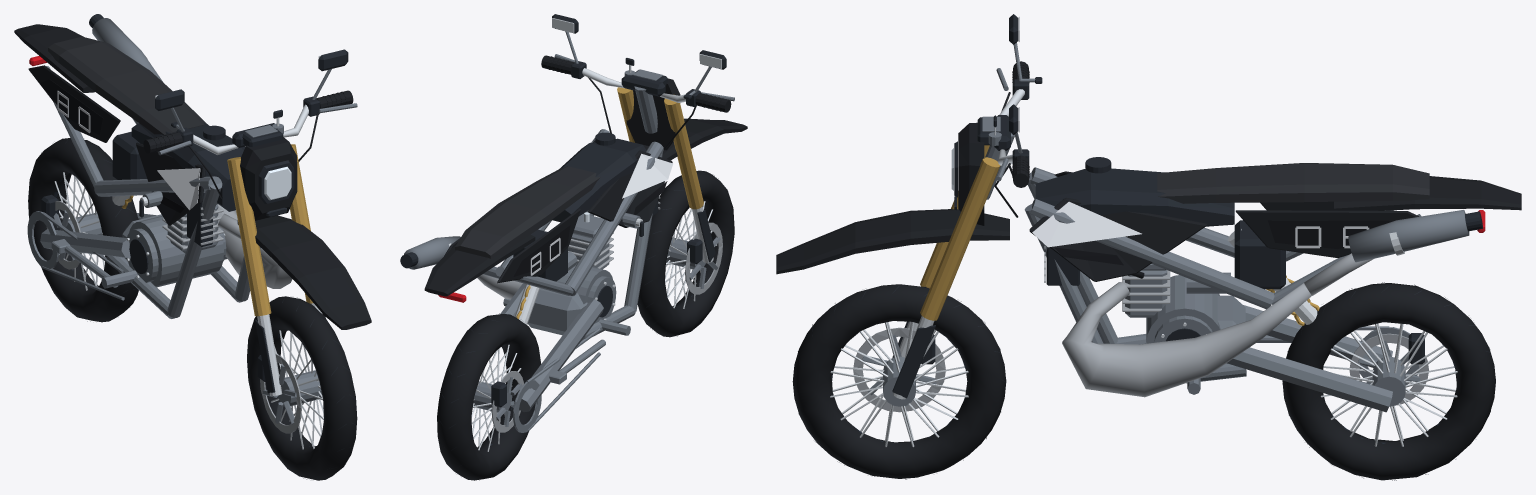
Rendered from supermoto80.glb.
3 renders of one model, left to right at view 1: azimuth 30°, elevation 25°; view 2: azimuth 150°, elevation 25°; view 3: azimuth 270°, elevation 25°, orthographic. The views are drawn at different scales.
Visible parts, largest first — view 1: FrontTyre, RearTyre, Seat, FrontHighFender, ForkUpper, FuelTank, HeadlightMask, Crankcase, ExpansionChamber, FrameCradle, RearFender, RadiatorShroud_-1 (+38 smaller); view 2: RearTyre, FrontTyre, Seat, FuelTank, RearFender, SwingarmRail, Gearbox, FrameUpper, RadiatorShroud_-1, ForkUpper, HeadlightMask, RearSidePanel_-1 (+31 smaller); view 3: RearTyre, FrontTyre, ExpansionChamber, Seat, FrontHighFender, FuelTank, RadiatorShroud_1, SwingarmRail.001, FrontWheel_FrontSpokeDetails, FrameUpper.001, RearFender, HighSilencer (+23 smaller).
Part boxes in pixels (<box>): FrontTyre: <box>247,296,357,480</box>; RearTyre: <box>28,138,138,322</box>; Seat: <box>48,36,207,135</box>; FrontHighFender: <box>237,215,371,329</box>; ForkUpper: <box>227,157,271,316</box>; FuelTank: <box>131,122,245,211</box>; HeadlightMask: <box>240,137,297,220</box>; Crankcase: <box>129,215,223,287</box>; ExpansionChamber: <box>217,204,292,288</box>; FrameCradle: <box>167,183,222,317</box>; RearFender: <box>14,24,94,92</box>; RadiatorShroud_-1: <box>136,142,205,225</box>; RearTyre: <box>437,314,540,480</box>; FrontTyre: <box>637,170,734,337</box>; Seat: <box>455,166,600,258</box>; FuelTank: <box>552,138,646,222</box>; RearFender: <box>424,234,535,296</box>; SwingarmRail: <box>514,299,603,412</box>; Gearbox: <box>527,288,587,335</box>; FrameUpper: <box>565,141,663,295</box>; RadiatorShroud_-1: <box>587,150,672,227</box>; ForkUpper: <box>664,94,703,209</box>; HeadlightMask: <box>626,78,680,150</box>; RearSidePanel_-1: <box>497,208,580,283</box>; RearTyre: <box>1282,283,1495,480</box>; FrontTyre: <box>792,284,1006,478</box>; ExpansionChamber: <box>1062,282,1311,397</box>; Seat: <box>1157,163,1429,203</box>; FrontHighFender: <box>776,209,1009,274</box>; FuelTank: <box>1035,168,1234,226</box>; RadiatorShroud_1: <box>1029,197,1207,281</box>; SwingarmRail.001: <box>1227,347,1392,412</box>; FrontWheel_FrontSpokeDetails: <box>830,322,968,447</box>; FrameUpper.001: <box>1030,198,1274,309</box>; RearFender: <box>1334,176,1521,210</box>; HighSilencer: <box>1348,210,1469,262</box>.
Bounding box in the file's own units: 0.72 × 1.24 × 2.02.
